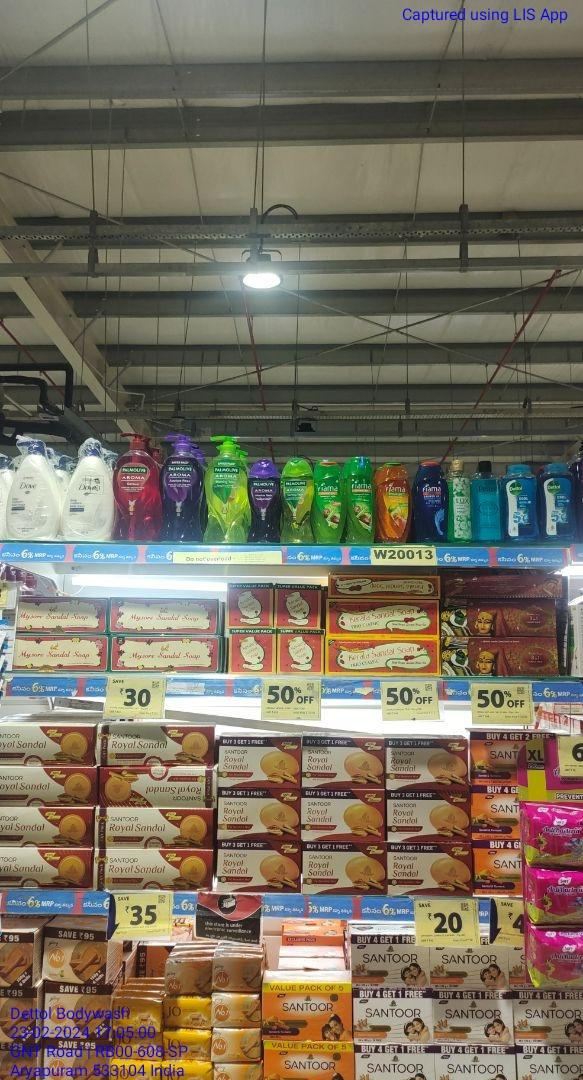Dettol_Bodywash_Cool: (542, 462, 578, 544), (504, 464, 539, 542)
Fiama_Shower_Gel_Lemongrass_and_Jojoba_250ML: (346, 457, 375, 545), (316, 460, 345, 545)
Fiama_Shower_Gel_Peach_and_Avocado_250ML: (378, 463, 410, 542)
Lux_Body_Wash_Skin_Detox_Freesia_Scent_and_Alove_Vera_245ML: (447, 458, 472, 543)
Palmolive_Aroma_Morning_Tonic_Shower_Gel_250ML: (284, 458, 316, 545)
Palmolive_Aroma_Relax_250ML: (247, 460, 281, 543)
Pears_Pure_Glycerin_and_Mint_Extracts_Body_Wash_250ML: (473, 462, 503, 542)
